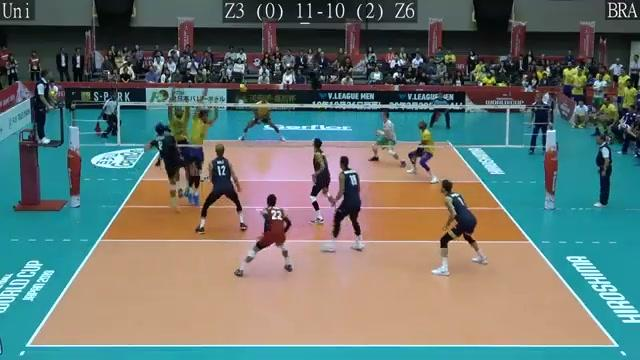ball: (238, 82, 250, 93)
